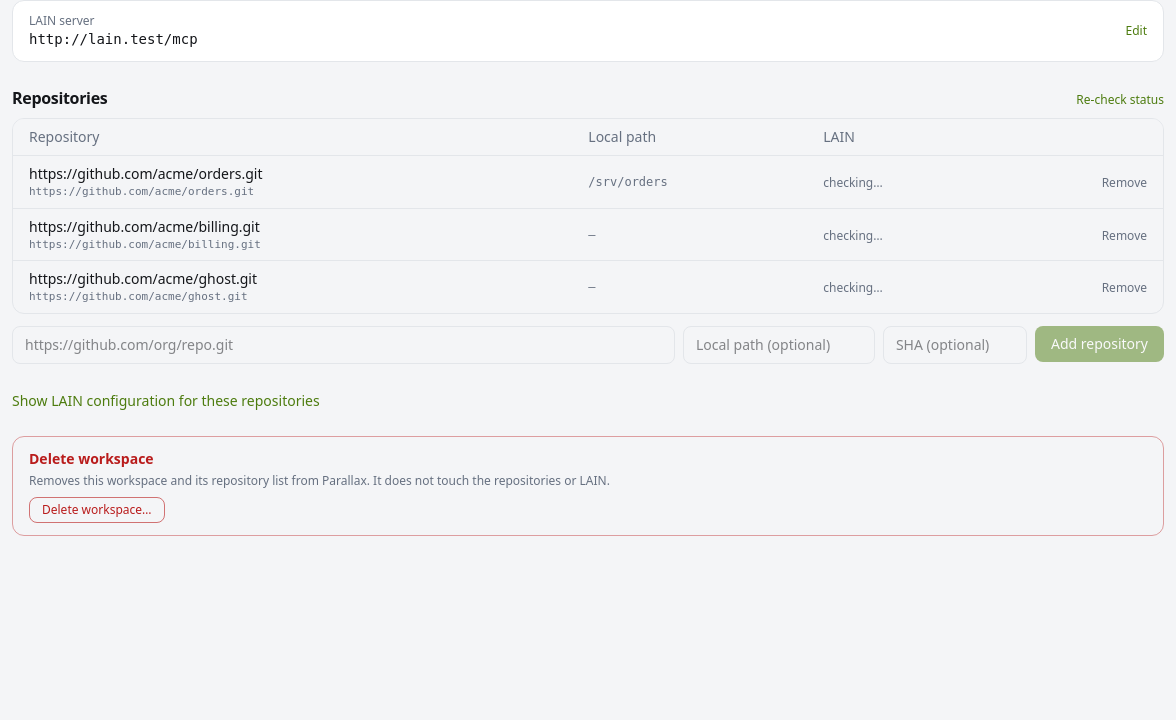
Scenario: RepoManager — LAIN server, configuration, deletion › Cancel restores the stored URL, and a rejected URL shows the reason
The width and height of the screenshot is (1176, 720).
Click the button "Edit": (1136, 31) [1126,23,1147,39]
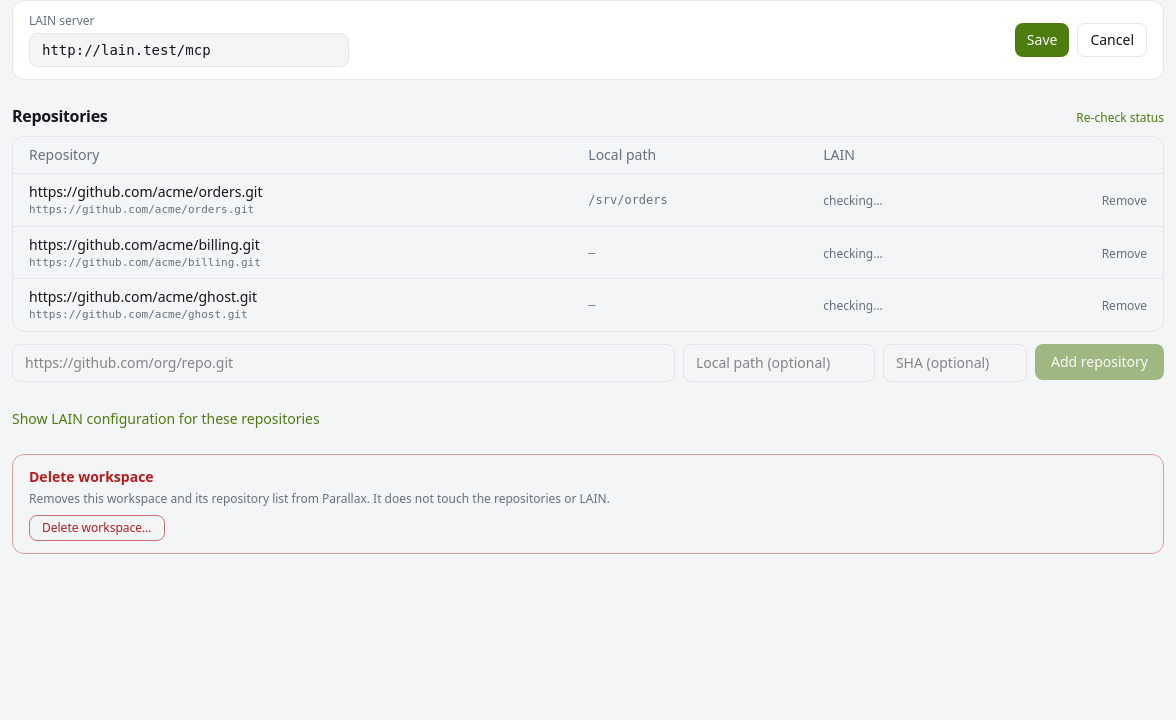
Replace the text in the field named "LAIN server URL" with "nope": (189, 50) [29,33,349,67]
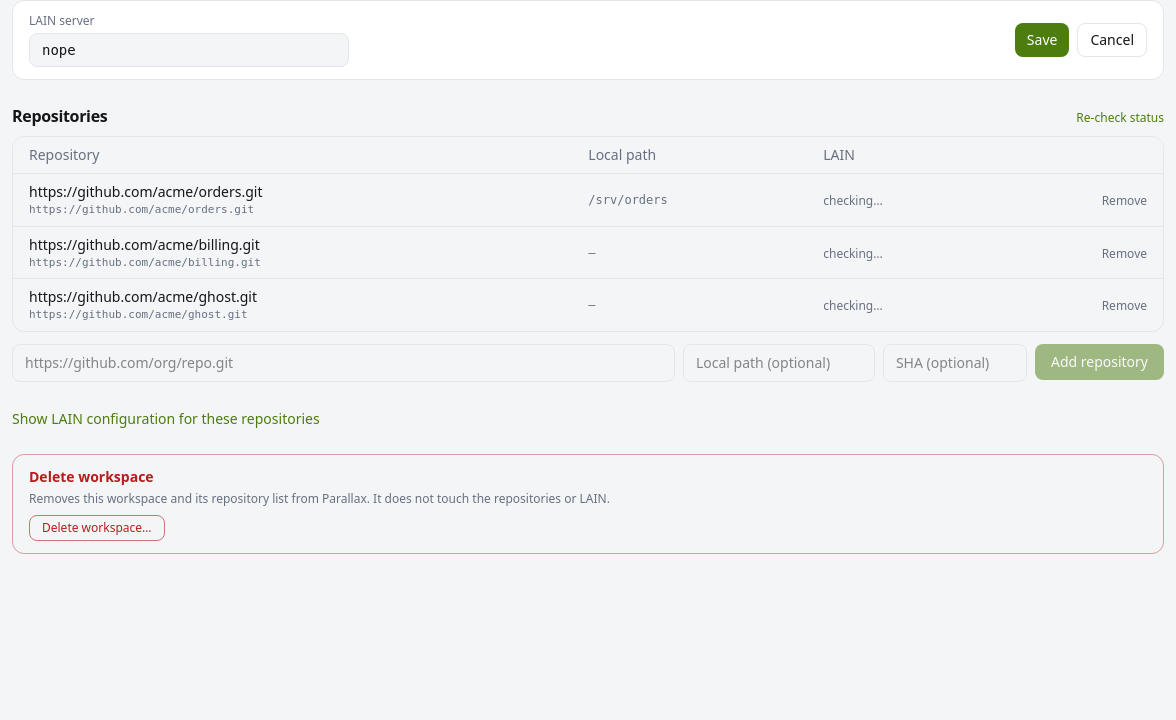
Click the button "Cancel": (1112, 40) [1077,23,1147,57]
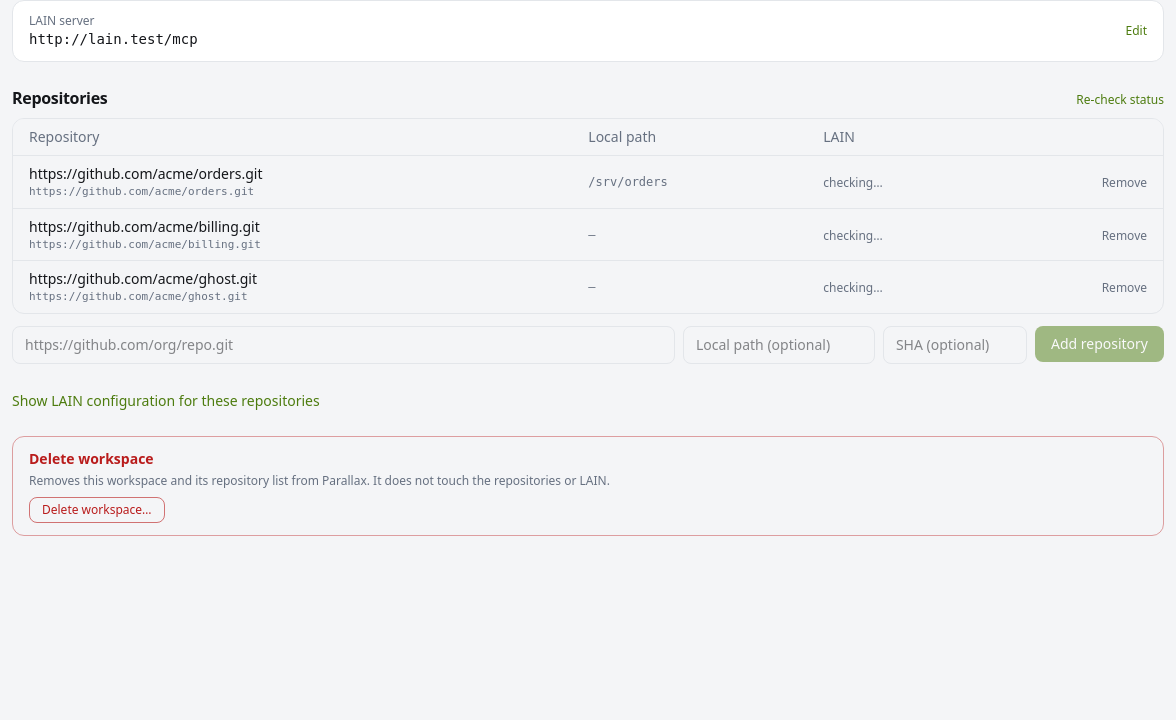
Click the button "Edit": (1136, 31) [1126,23,1147,39]
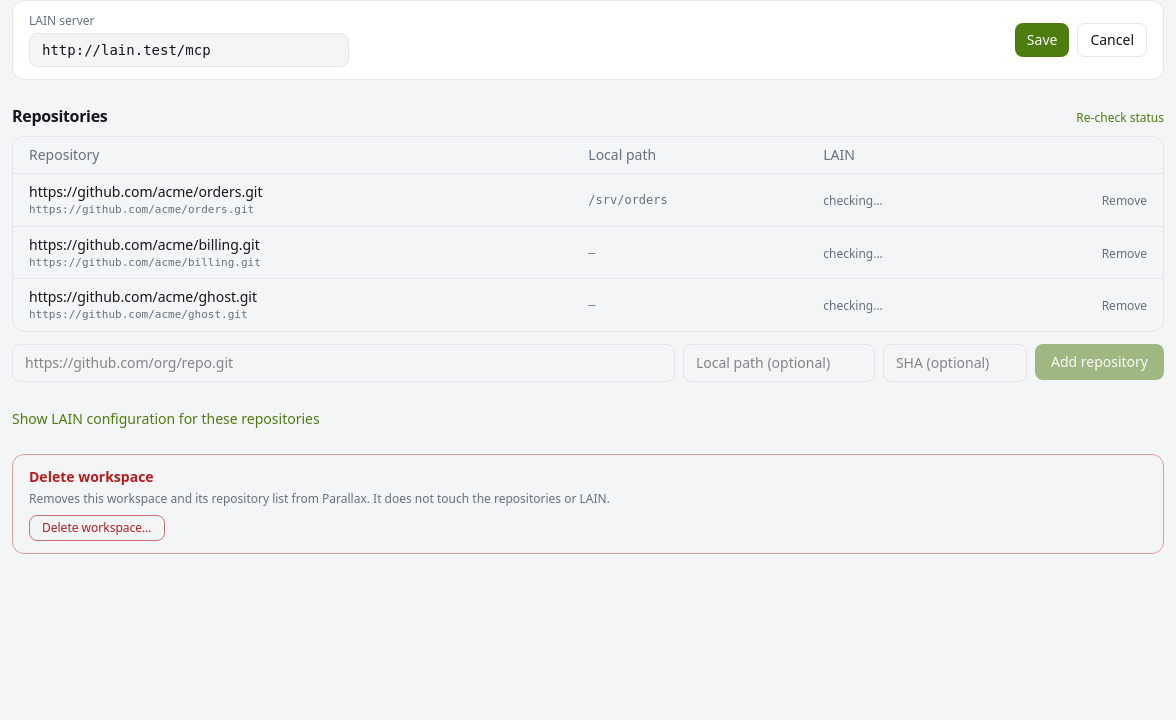
Expected: the field named "LAIN server URL" holds "http://lain.test/mcp"
Replace the text in the field named "LAIN server URL" with "nope": (189, 50) [29,33,349,67]
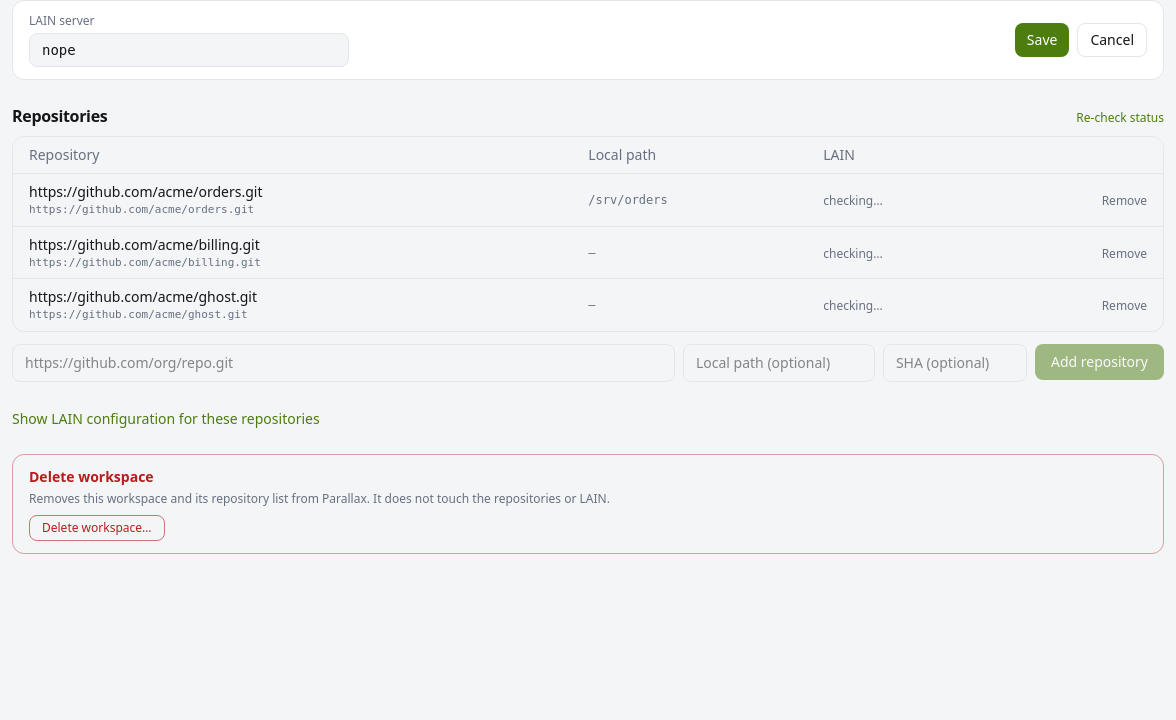
Click the button "Save": (1042, 40) [1015,23,1069,57]
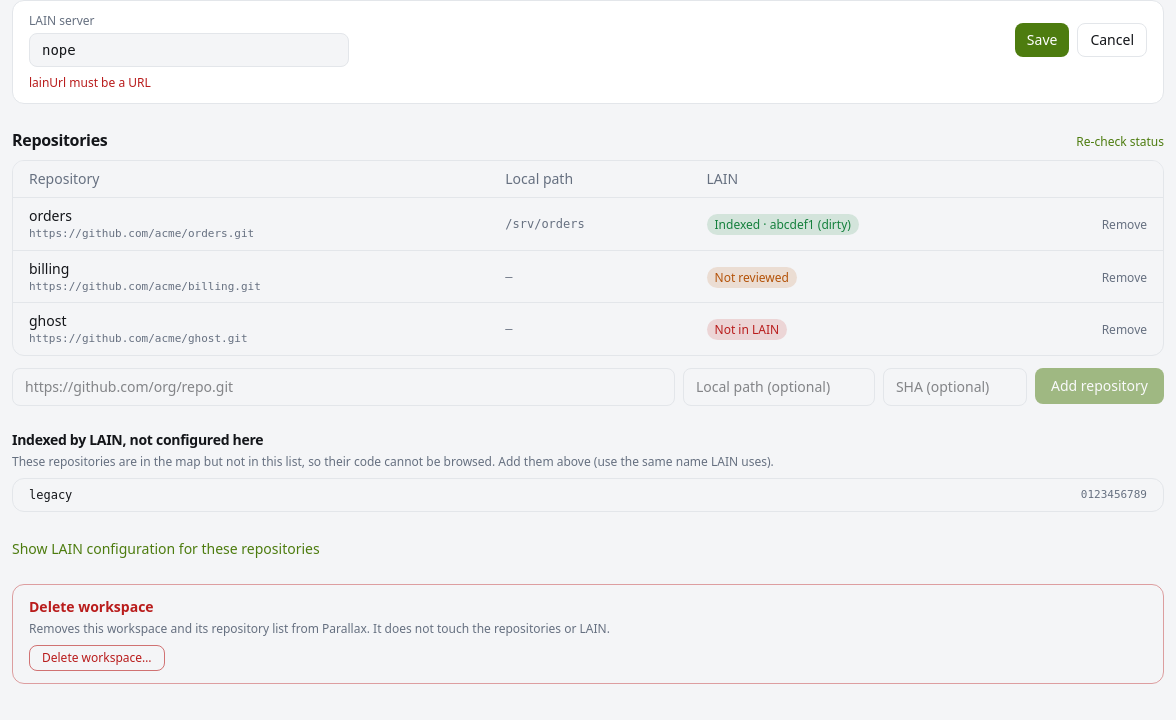
Expected: the message reads "lainUrl must be a URL", [29,74,151,91]
